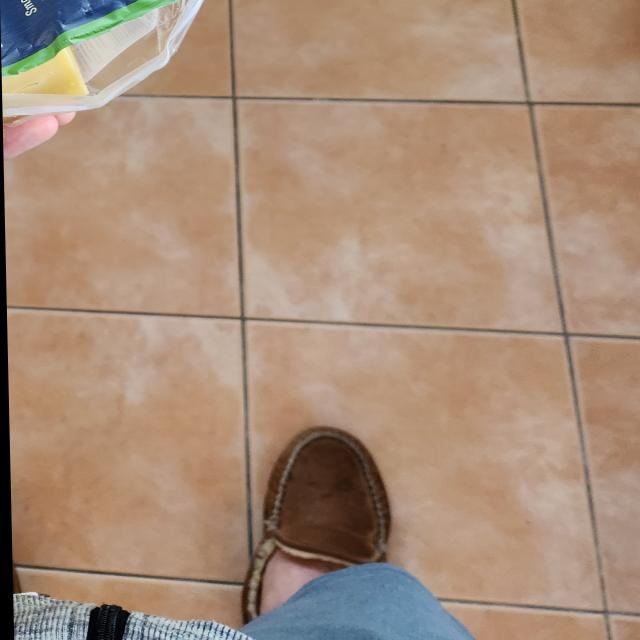cheese: (0, 0, 268, 134)
